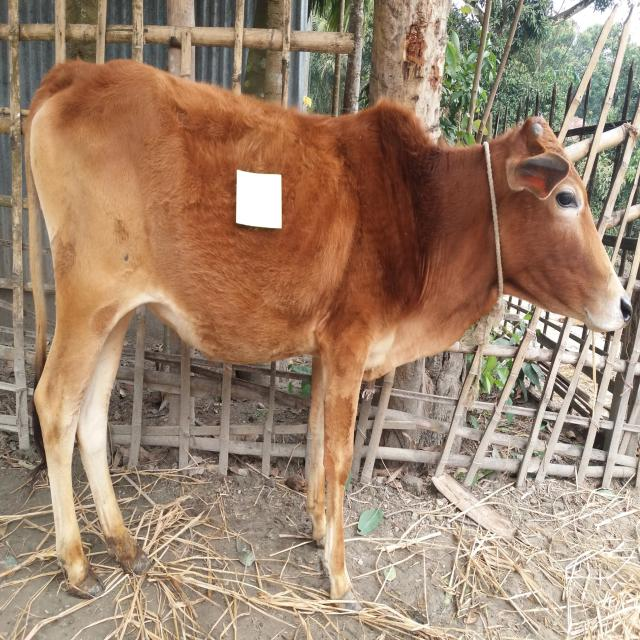badan_sapi: (29, 62, 372, 378)
sapi: (25, 59, 632, 619)
